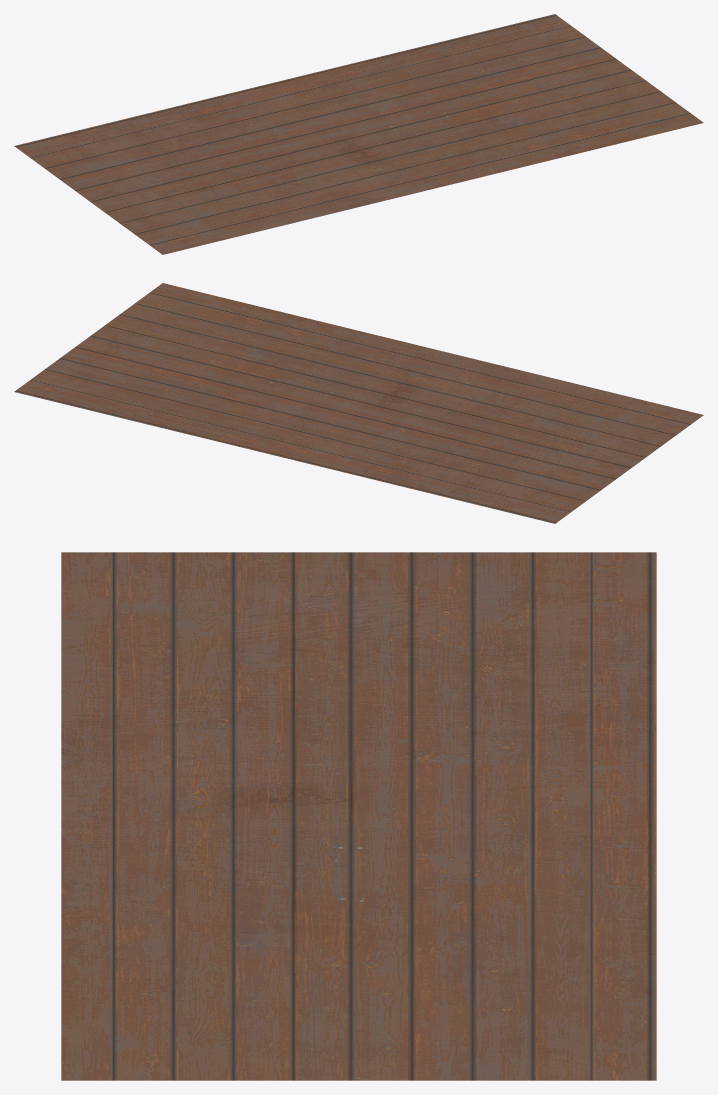
File: SM_Base_Side_B3.fbx
3 renders of one model, top to bottom at view 1: azimuth 30°, elevation 25°; view 2: azimuth 150°, elevation 25°; view 3: azimuth 270°, elevation 25°, orthographic. The views are drawn at different scales.
Parts seen in each view (by area): view 1: SM_Base_Top_B3; view 2: SM_Base_Top_B3; view 3: SM_Base_Top_B3.
Part boxes in pixels (bbox=[...]): SM_Base_Top_B3: bbox=[14, 14, 703, 254]; SM_Base_Top_B3: bbox=[14, 283, 703, 523]; SM_Base_Top_B3: bbox=[61, 552, 656, 1080].
Size of the model in its own units: 294 by 140 by 0.000145.
Materials: 1 (1 with a texture image).
